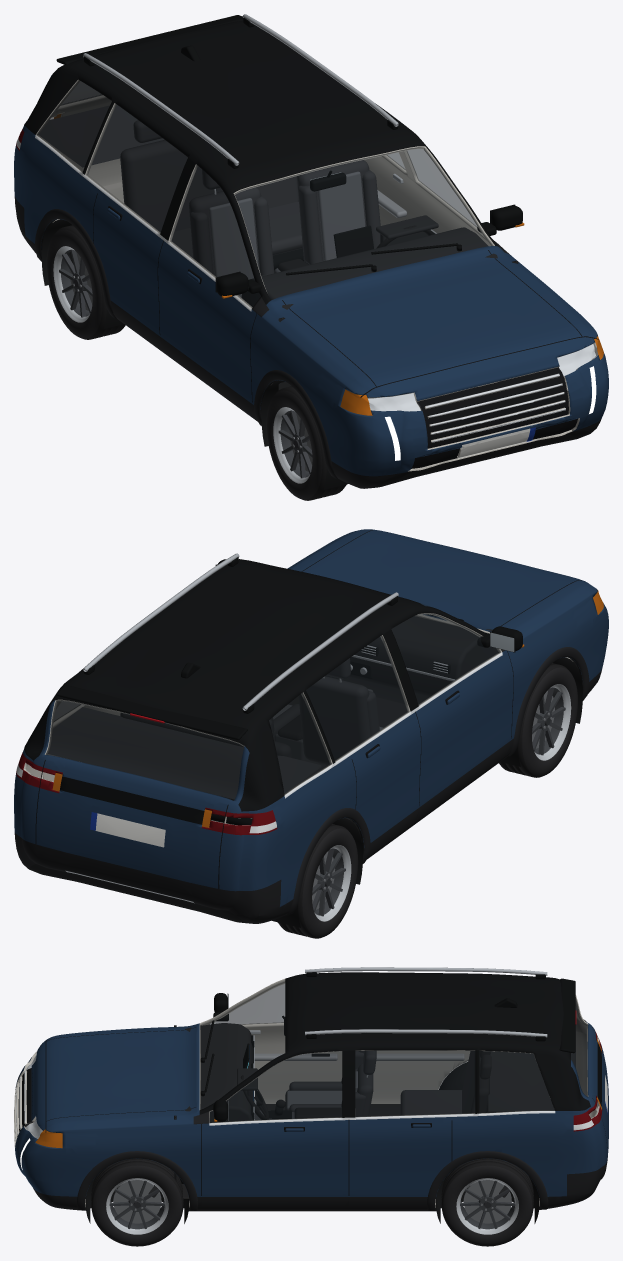
Rendered from family_suv.glb.
The picture shows the model from 3 angles, top to bottom: view 1: azimuth 30°, elevation 25°; view 2: azimuth 150°, elevation 25°; view 3: azimuth 270°, elevation 25°; orthographic projection. The views are drawn at different scales.
Visible parts, largest first — view 1: body, wheel_front_right, wheel_rear_right, mirrors; view 2: body, wheel_rear_right, wheel_front_right, mirrors; view 3: body, wheel_rear_left, wheel_front_left, mirrors, indicator_left, steering.
Part boxes in pixels (x1,y1,x2,y2): body: (14,14,608,489); wheel_front_right: (266,386,346,500); wheel_rear_right: (46,225,125,339); mirrors: (215,204,522,296); body: (14,529,608,927); wheel_rear_right: (278,824,358,938); wheel_front_right: (499,663,577,777); mirrors: (215,559,522,652); body: (14,967,608,1223); wheel_rear_left: (441,1158,533,1246); wheel_front_left: (91,1158,183,1246); mirrors: (213,993,228,1121); indicator_left: (35,1097,601,1148); steering: (240,1075,269,1119).
Size of the model in its own units: 2.13 by 1.68 by 4.54.
